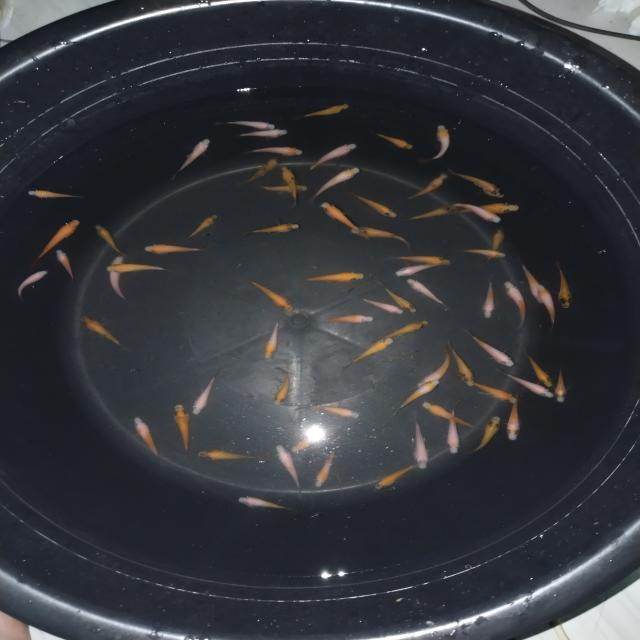nila: (386, 378, 444, 420), (30, 218, 80, 266), (318, 199, 372, 242), (512, 344, 562, 389), (309, 164, 362, 204), (467, 330, 515, 374), (417, 398, 480, 431), (77, 315, 134, 351), (496, 368, 556, 402), (448, 168, 506, 202), (170, 136, 218, 177), (370, 460, 428, 492), (248, 276, 298, 313), (268, 444, 304, 495), (396, 199, 459, 228), (345, 336, 397, 371), (235, 154, 284, 190), (368, 282, 419, 316), (406, 278, 454, 312), (307, 140, 358, 172), (414, 350, 454, 390), (532, 284, 564, 334), (402, 170, 450, 202), (350, 189, 402, 218), (516, 260, 548, 307), (190, 370, 220, 420), (448, 342, 479, 390), (233, 492, 300, 514), (132, 415, 162, 462), (350, 226, 414, 248), (454, 198, 504, 226), (171, 401, 193, 464), (472, 414, 504, 457), (378, 318, 430, 344), (312, 449, 344, 491), (444, 404, 469, 456), (470, 381, 522, 406), (503, 280, 528, 332), (300, 99, 352, 124), (294, 268, 366, 286), (310, 399, 366, 422), (408, 418, 432, 471), (425, 122, 455, 164), (241, 220, 302, 240), (13, 268, 49, 300), (278, 164, 304, 208), (94, 220, 125, 256), (393, 250, 458, 267), (192, 446, 261, 462), (260, 318, 284, 364), (484, 224, 511, 264), (186, 212, 222, 242), (454, 202, 530, 216), (554, 265, 576, 313), (453, 244, 510, 262), (270, 366, 294, 408), (388, 260, 442, 278), (477, 281, 500, 323), (376, 129, 418, 152), (104, 261, 178, 274), (358, 296, 406, 316), (216, 117, 276, 133), (311, 311, 379, 325), (108, 252, 126, 304), (242, 145, 308, 159), (142, 243, 212, 256), (506, 394, 524, 444), (54, 248, 80, 282), (25, 187, 86, 200), (234, 128, 292, 141), (254, 182, 308, 195), (554, 364, 570, 406), (289, 436, 322, 454)
